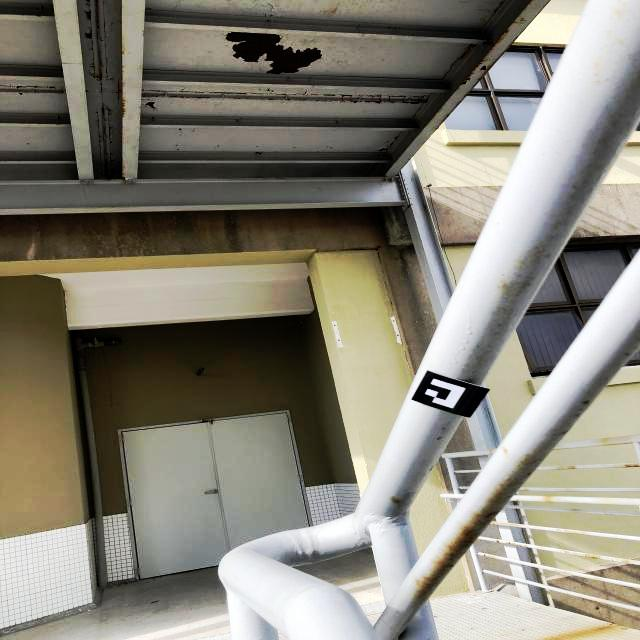Corrosion: (414, 453, 532, 605), (226, 32, 322, 74), (462, 29, 509, 85), (549, 623, 622, 640), (512, 0, 533, 24), (561, 550, 602, 560), (95, 0, 101, 40), (505, 541, 528, 547), (554, 466, 578, 470), (481, 39, 492, 47), (623, 462, 640, 467), (122, 96, 125, 124), (84, 9, 91, 19), (144, 102, 155, 108), (483, 554, 496, 559), (622, 559, 635, 564), (479, 64, 488, 71), (482, 609, 491, 616), (543, 496, 552, 502), (87, 34, 92, 40), (503, 447, 507, 454), (496, 540, 501, 542)
